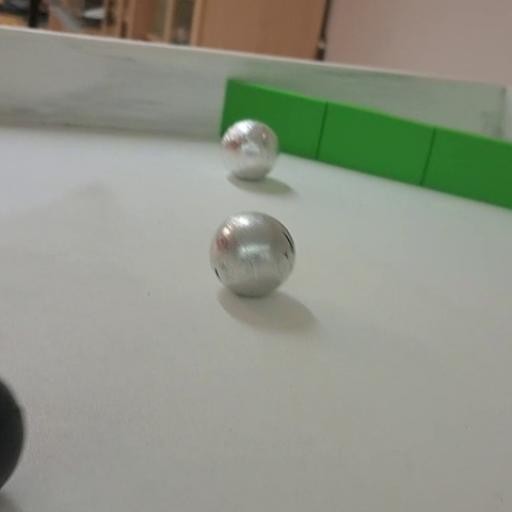alive: (211, 212, 296, 300), (221, 120, 278, 182)
dead: (0, 371, 25, 493)
